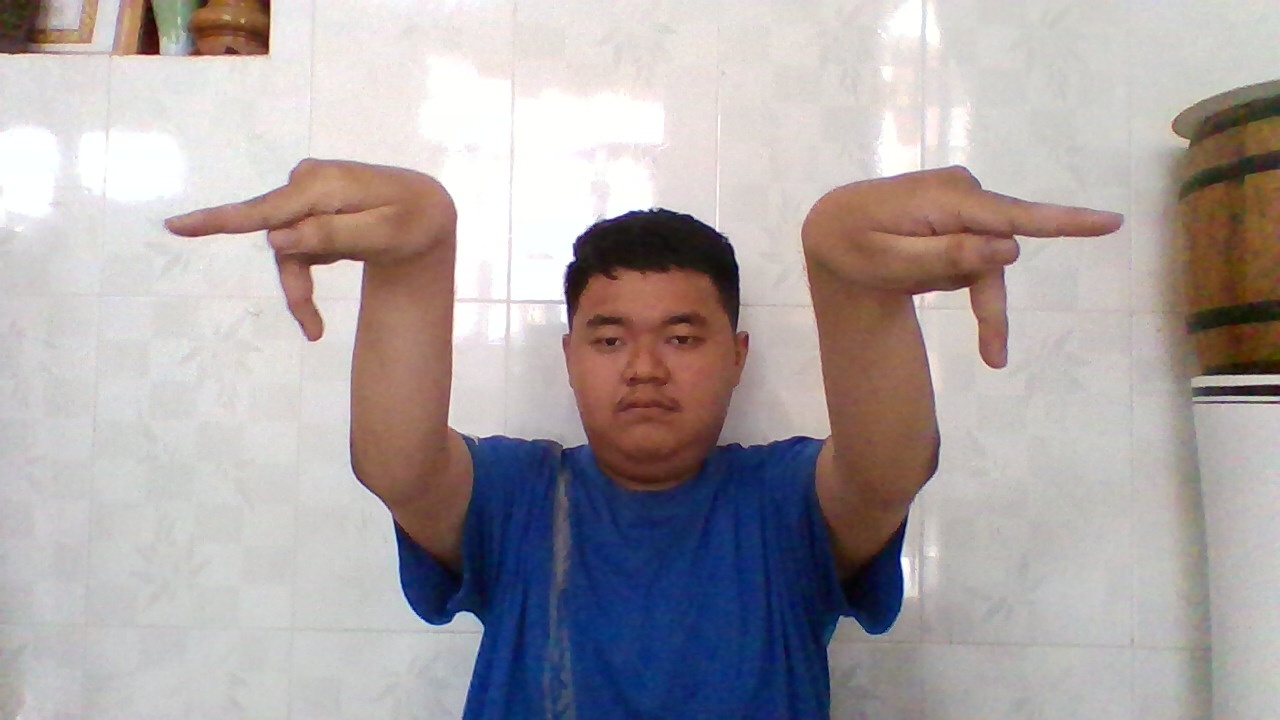P: (803, 169, 1125, 348), (160, 161, 447, 330)
